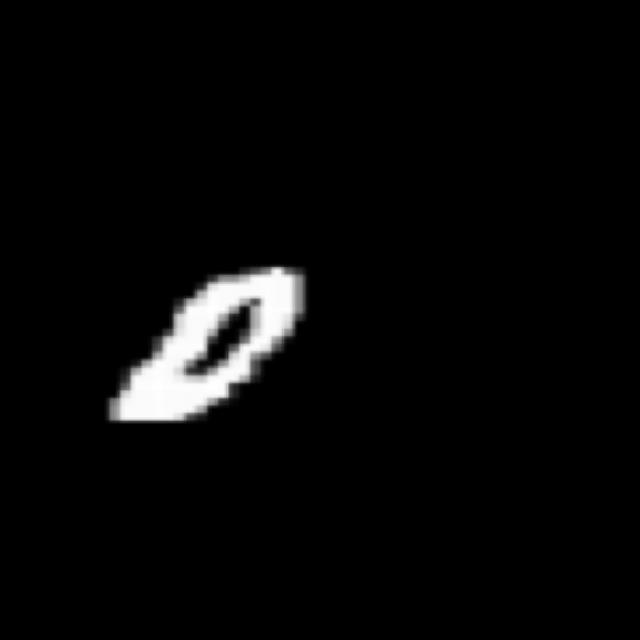zero -0-: (83, 249, 332, 446)
